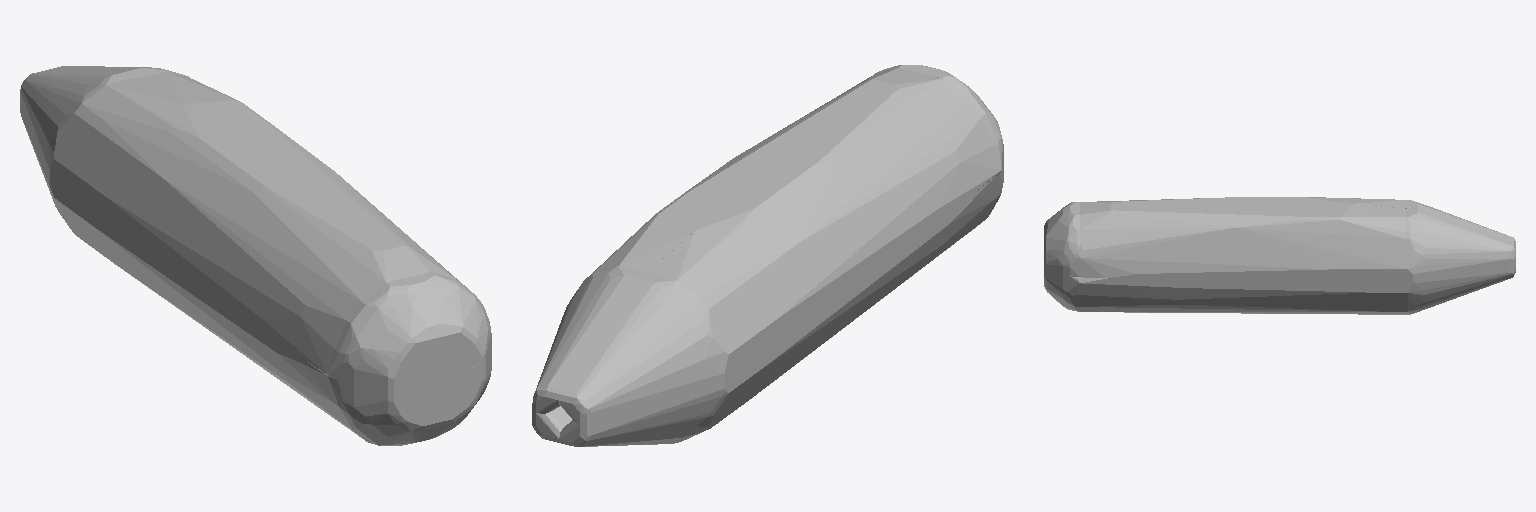
robot.urdf — root:
<?xml version="1.0"?>
<robot name="root">
  <link name="base_link">
    <visual>
      <origin xyz="0 0 0" rpy="0 0 0" />
      <geometry>
        <mesh filename="../meshes/unidex_core_bottle-cec14f91bf10f86e8291825d073a05e1_006.obj" scale="1.0000E+00 1.0000E+00 1.0000E+00" />
      </geometry>
      <material name="">
        <color rgba="7.50E-01 7.50E-01 7.50E-01 1" />
      </material>
    </visual>
    <collision>
      <origin xyz="0 0 0" rpy="0 0 0" />
      <geometry>
        <mesh filename="../meshes/unidex_core_bottle-cec14f91bf10f86e8291825d073a05e1_006.obj" scale="1.0000E+00 1.0000E+00 1.0000E+00" />
      </geometry>
    </collision>
  </link>
</robot>

--- Facts derived from the render (not from the file) ---
3 views of the same robot in one strip: view 1: azimuth 30°, elevation 25°; view 2: azimuth 150°, elevation 25°; view 3: azimuth 270°, elevation 25° (orthographic).
Robot: root — 1 links, 0 joints (none); root link base_link; default pose: every joint at zero.
Links seen in each view (by area): view 1: base_link; view 2: base_link; view 3: base_link.
Boxes of the visible links, left/top/right/bottom form: base_link: left=20, top=66, right=491, bottom=445; base_link: left=532, top=65, right=1003, bottom=446; base_link: left=1044, top=197, right=1515, bottom=314.
Size in the robot's own frame: 0.0278 by 0.1165 by 0.0278 metres.
1 mesh visuals loaded from 1 distinct referenced files (1 OBJ).
